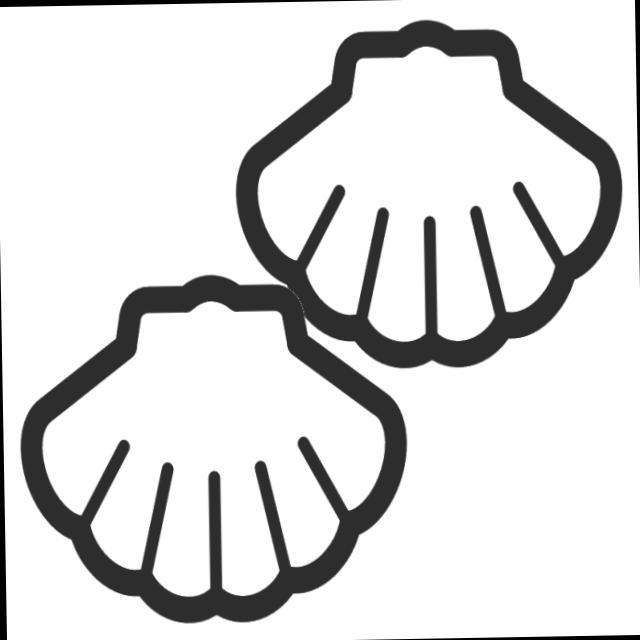shell: (223, 4, 634, 390), (12, 255, 427, 636)
